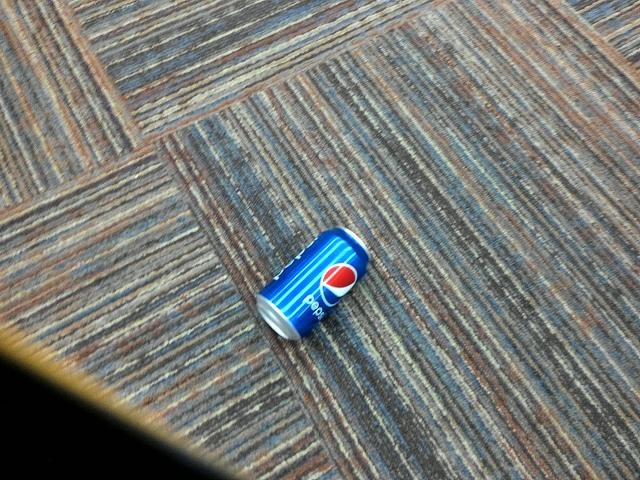can: (243, 216, 375, 349)
